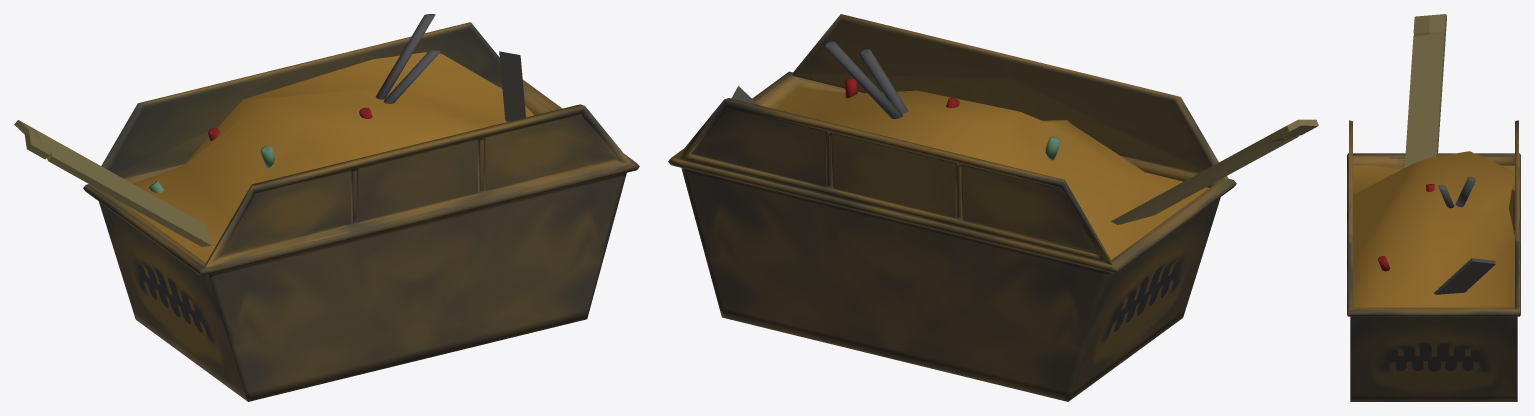
File: CaçambaFudida.fbx
3 renders of one model, left to right at view 1: azimuth 30°, elevation 25°; view 2: azimuth 150°, elevation 25°; view 3: azimuth 270°, elevation 25°, orthographic. The views are drawn at different scales.
Parts seen in each view (by area): view 1: Cube; view 2: Cube; view 3: Cube.
Part boxes in pixels (x1,y1,x2,y2): Cube: (14,14,639,401); Cube: (668,14,1318,401); Cube: (1347,14,1520,401).
Bounding box in the file's own units: 815 × 379 × 291.
Materials: 7 (1 with a texture image).
